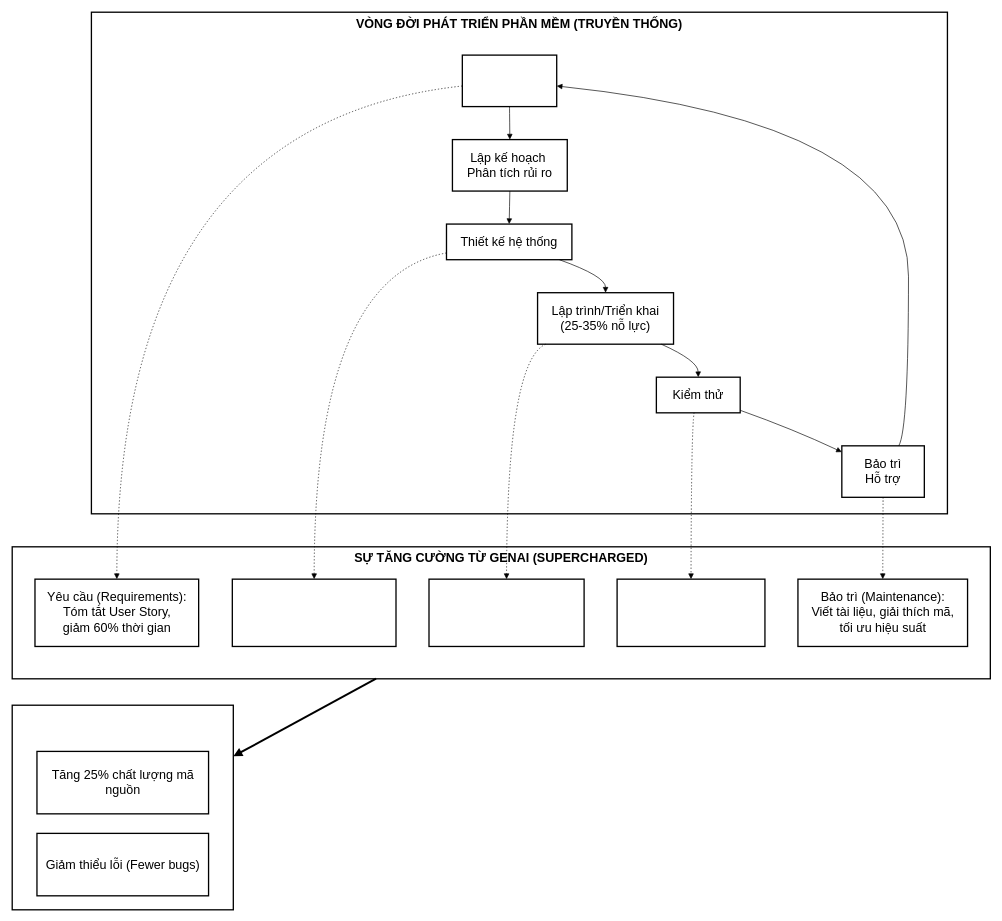
Some shapes in this 1002 by 921 pixel diagram are drawn without their labels. Each missing label, with the box of its shape:
HIỆU QUẢ THỰC TẾ (Nghiên cứu dẫn chứng): (11, 704, 234, 910)
Kiểm thử (Testing): Tự động tạo Unit Test, giảm 25% thời gian: (616, 578, 765, 647)
Lập trình (Coding): Autocomplete, Refactor, giảm 30% thời gian: (428, 578, 584, 647)
Phân tích Yêu cầu: (461, 54, 557, 107)
Thiết kế (Design): Gợi ý Design Patterns, xây dựng Prototype nhanh: (231, 578, 396, 647)
